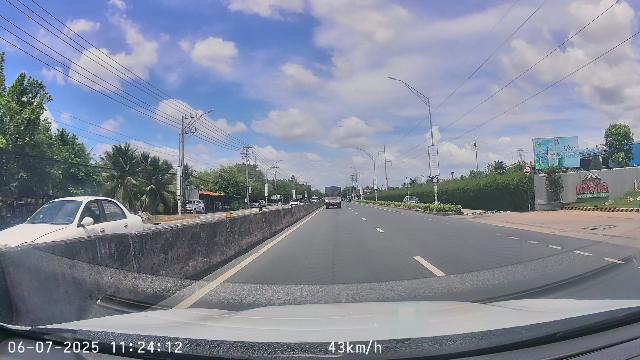103a-cam-oto: (523, 166, 532, 175)
